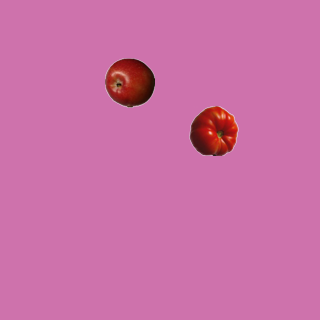Apple Braeburn: (104, 57, 154, 107)
Tomato 3: (188, 105, 238, 155)
